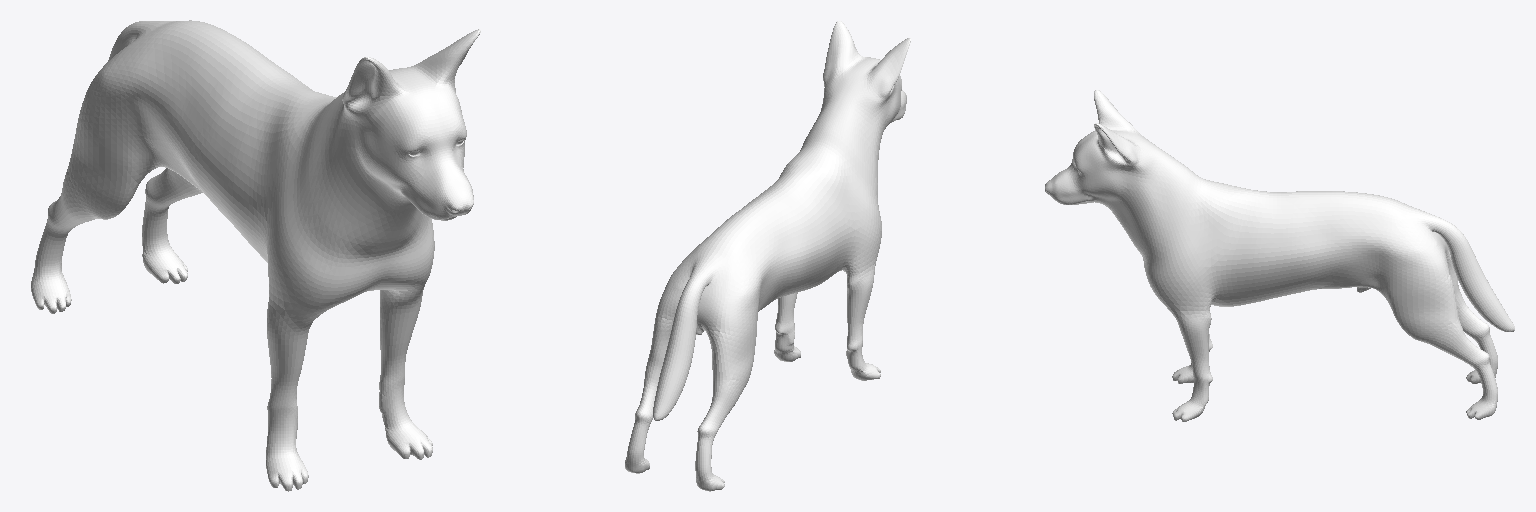
robot.urdf — simple_dog2.obj:
<robot name="simple_dog2.obj">
	<link name="_name">
		<visual>
			<origin xyz="0 0 0" rpy="0 0 0" />
			<geometry>
				<mesh filename="simple_dog2.obj" scale="0.1 0.1 0.1" />
			</geometry>
			<material name="texture">
				<color rgba="1.0 1.0 1.0 1.0" />
			</material>
		</visual>
		<collision>
			<geometry>
				<mesh filename="simple_dog2_vhacd.obj" scale="0.1 0.1 0.1" />
			</geometry>
		</collision>
		<inertial>
			<mass value="1.0" />
			<inertia ixx="1.0" ixy="0.0" ixz="0.0" iyy="1.0" iyz="0.0" izz="1.0" />
		</inertial>
	</link>
</robot>

--- Render facts (derived) ---
The picture shows the robot from 3 angles, left to right: view 1: azimuth 30°, elevation 25°; view 2: azimuth 150°, elevation 25°; view 3: azimuth 270°, elevation 25°; orthographic projection.
Robot: simple_dog2.obj — 1 links, 0 joints (none); root link _name; default pose: every joint at zero.
Visible links, largest first — view 1: _name; view 2: _name; view 3: _name.
Link boxes in pixels (left/top/right/bottom): _name: left=31, top=20, right=480, bottom=491; _name: left=625, top=21, right=910, bottom=491; _name: left=1045, top=90, right=1514, bottom=421.
Bounding box of the posed robot: 0.9357 × 3.87 × 2.65 m (x, y, z).
Meshes: 1 distinct files referenced, 1 mesh visuals loaded (1 OBJ).